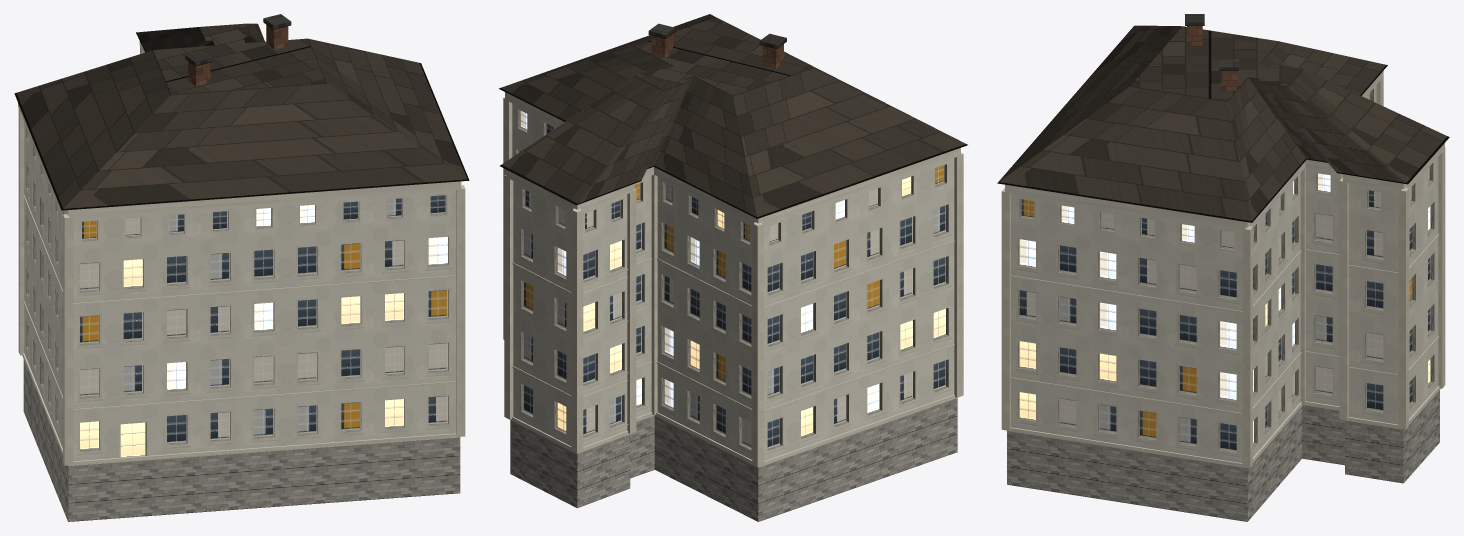
The model's file is kanzlei_schulhaus.glb.
The picture shows the model from 3 angles, left to right: view 1: azimuth 30°, elevation 25°; view 2: azimuth 150°, elevation 25°; view 3: azimuth 270°, elevation 25°; orthographic projection. The views are drawn at different scales.
Visible parts, largest first — view 1: kanzlei; view 2: kanzlei; view 3: kanzlei.
Boxes of the visible parts, x1,y1,x2,y2 form: kanzlei: [14, 14, 469, 521]; kanzlei: [499, 14, 967, 521]; kanzlei: [997, 14, 1449, 521].
Bounding box in the file's own units: 33.24 × 30.6 × 32.21.
3 materials, 3 textured.
